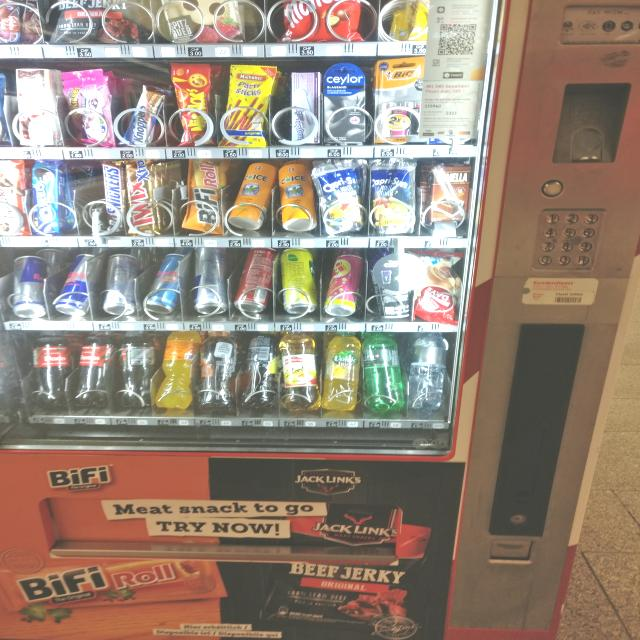7days_croissantschoko_packung_80_1_0000000000003: (411, 249, 458, 319)
bifi_roll__50__4251097402635: (184, 157, 230, 234)
c-swiss_dosenabisicetea__33__9120025930135: (226, 162, 274, 230), (276, 162, 319, 229)
caferoyal_classicmacchiato__33__7617014164487: (367, 248, 410, 318)
caprisun_multivitamin__20__4000177605004: (318, 160, 370, 230), (369, 162, 419, 234)
coke__dose_33__54491472: (232, 244, 276, 312)
coke__flasche_50__54491472: (70, 328, 116, 403), (117, 329, 163, 404), (31, 328, 71, 409)
comella_schokodrink__33__7613100037253: (419, 161, 476, 227)
fanta___50__40822938: (157, 329, 196, 408)
fini_jellykisses_packung_80_1_8410525116704: (64, 71, 115, 144)
fuse_lemon__50__5449000235947: (237, 330, 284, 413)
fuse_lemon_dose_33__5449000235947: (276, 246, 324, 312)
fuse_peach__50__5449000236623: (197, 329, 242, 408)
kagi___50__7610046000259: (14, 67, 54, 144)
knoppers_riegel____4035800488808: (123, 85, 165, 147)
lorenz_nicnacs__40__4018077798818: (167, 59, 215, 144)
malburner_partysticks__40__7610200279682: (219, 64, 270, 149)
oreo___66__84100733: (33, 158, 62, 236)
ramseier_schorle__50__7610057012456: (273, 330, 324, 412)
redbull___33__90162909: (49, 250, 94, 316), (142, 253, 188, 317), (191, 245, 231, 314), (7, 254, 47, 319), (100, 251, 139, 315)
snickers___50__5000159461122: (96, 157, 130, 234)
tiki_himbeer_brause__50__00000000009342: (318, 253, 362, 316)
twix___50__5000159459228: (124, 160, 160, 232)
valser_classic__50__76404160: (363, 330, 406, 410)
valser_still__50__7610335002575: (407, 330, 447, 410)
volvic_pinapple__50__305764335648: (317, 330, 364, 413)
